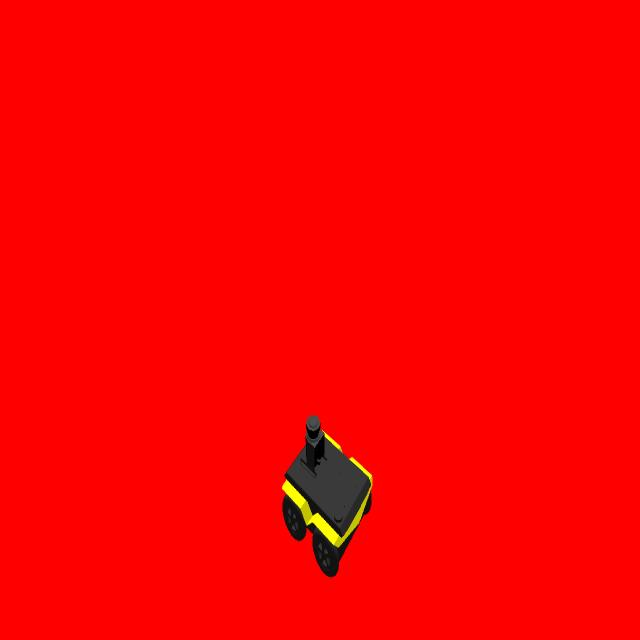jackal: (276, 413, 375, 587)
